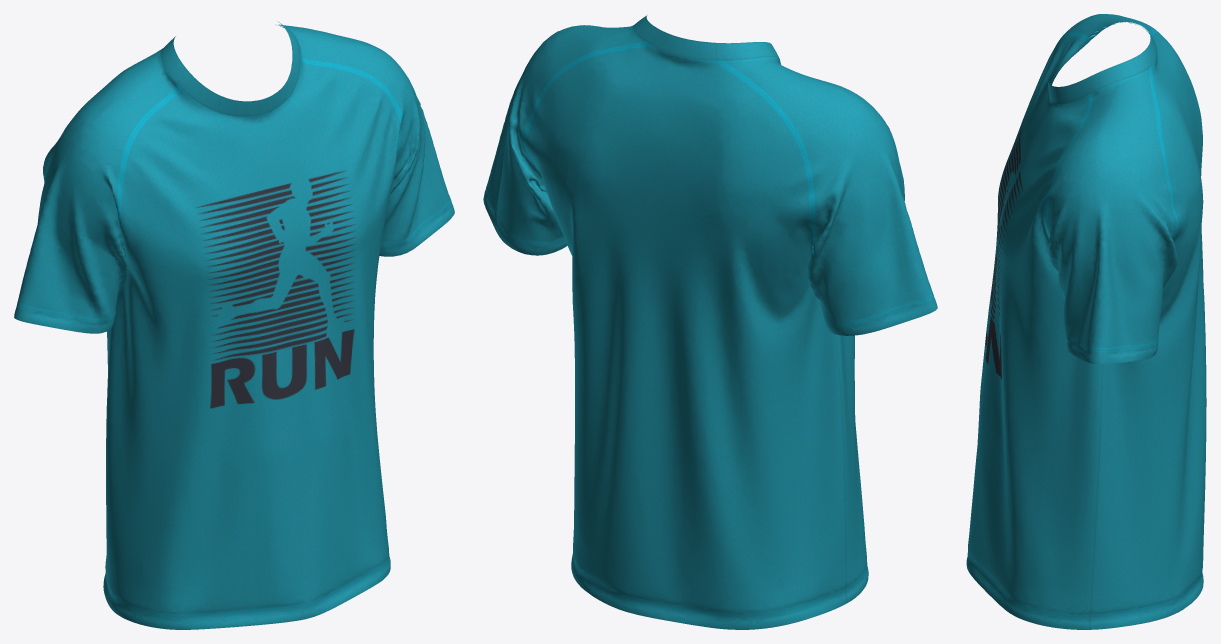
Rendered from REGLAN TEE_4k_Pd5.glb.
3 renders of one model, left to right at view 1: azimuth 30°, elevation 25°; view 2: azimuth 150°, elevation 25°; view 3: azimuth 270°, elevation 25°, orthographic. The views are drawn at different scales.
Parts seen in each view (by area): view 1: default; view 2: default; view 3: default.
Boxes of the visible parts, x1,y1,x2,y2 form: default: (14,21,454,629); default: (483,15,937,629); default: (966,14,1206,629).
Size of the model in its own units: 23.66 by 28.07 by 11.39.
Materials: 1 (1 with a texture image).
